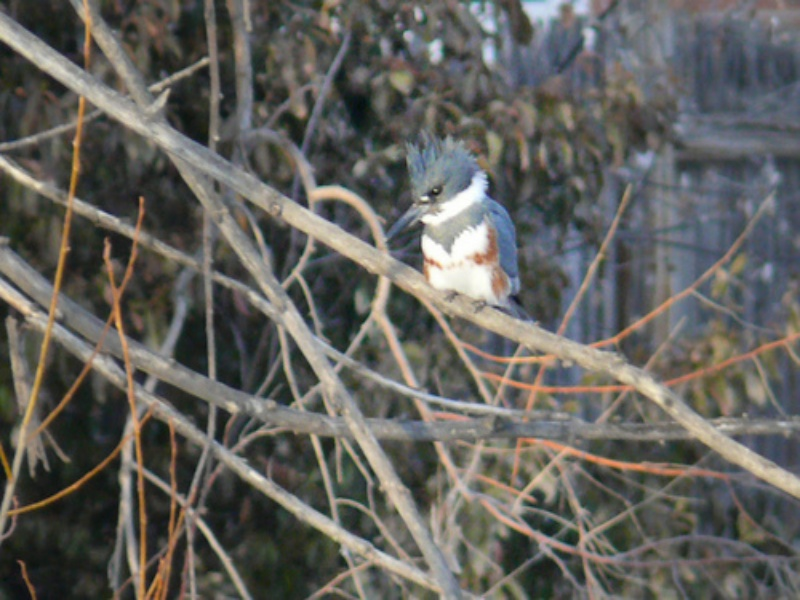kingfisher: (376, 126, 535, 330)
